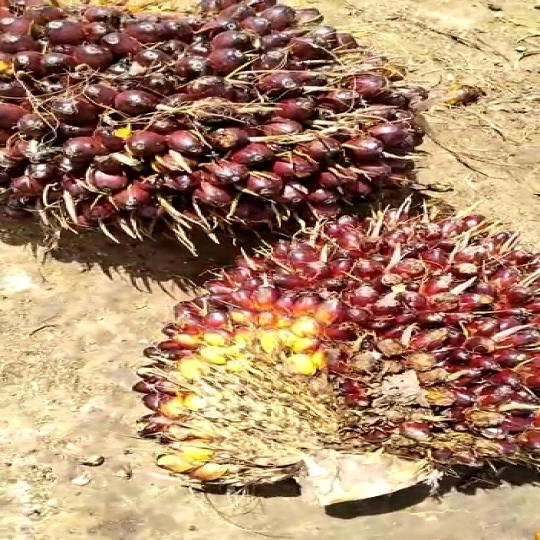kurang masak: (109, 205, 540, 502), (4, 0, 446, 242)
